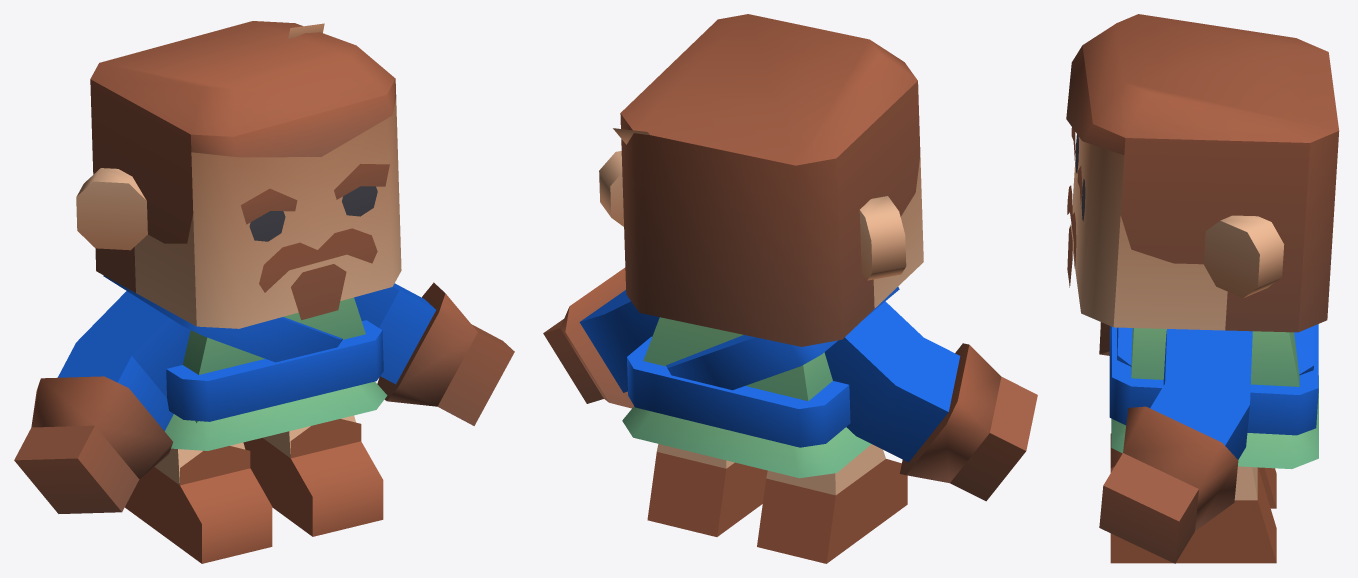
File: toy-soldier-player-body.glb
3 views of the same model, side by side, from view 1: azimuth 30°, elevation 25°; view 2: azimuth 150°, elevation 25°; view 3: azimuth 270°, elevation 25° (orthographic). The views are drawn at different scales.
Size of the model in its own units: 0.9076 by 0.8229 by 0.4419.
1 material, 1 textured.
